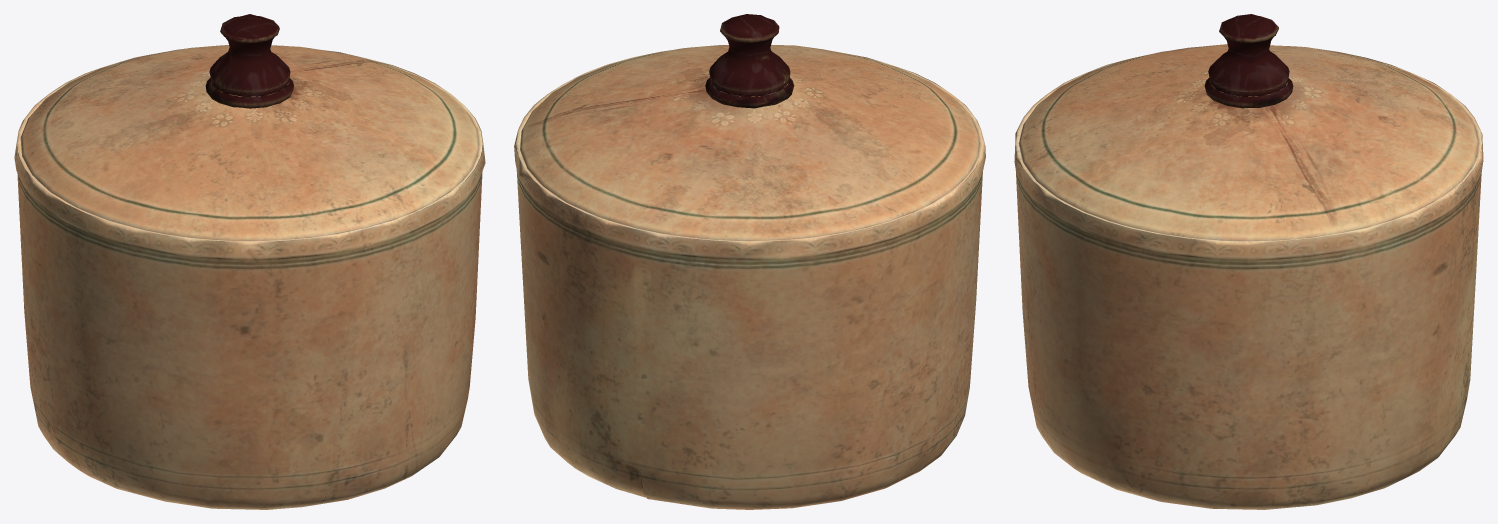
Rendered from brass_pot_01.glb.
3 views of the same model, side by side, from view 1: azimuth 30°, elevation 25°; view 2: azimuth 150°, elevation 25°; view 3: azimuth 270°, elevation 25° (orthographic).
Parts seen in each view (by area): view 1: brass_pot_01; view 2: brass_pot_01; view 3: brass_pot_01.
Part boxes in pixels (box(x1,y1,x2,y2)): brass_pot_01: box(14, 14, 485, 509); brass_pot_01: box(514, 14, 985, 509); brass_pot_01: box(1014, 14, 1483, 509).
Size of the model in its own units: 0.3011 by 0.2909 by 0.3001.
1 material, 1 textured.
